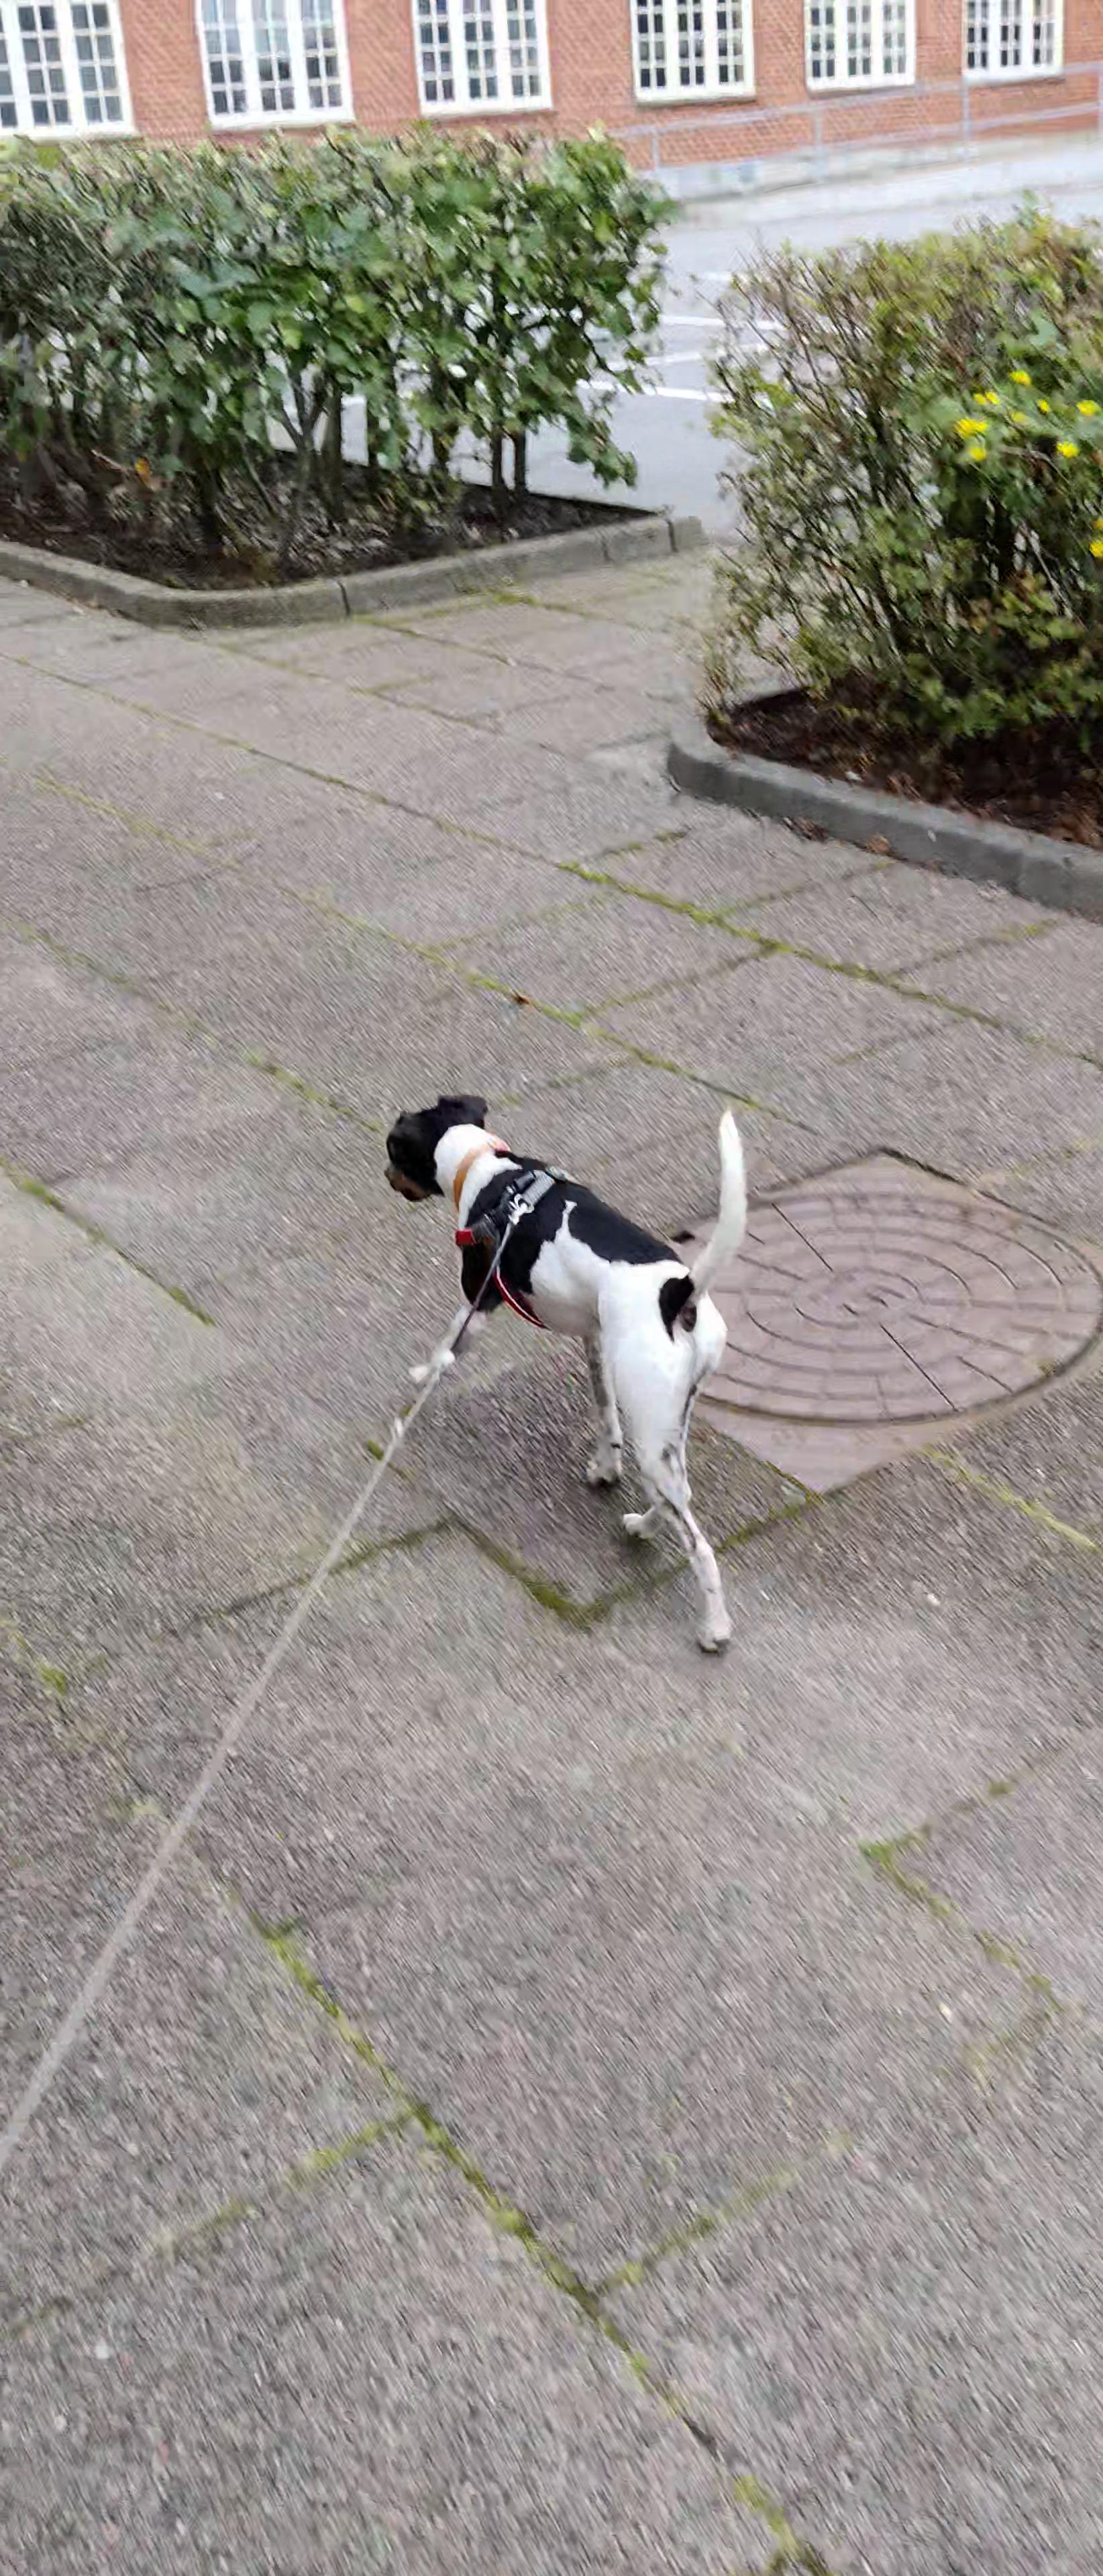Dog: (378, 1089, 753, 1661)
